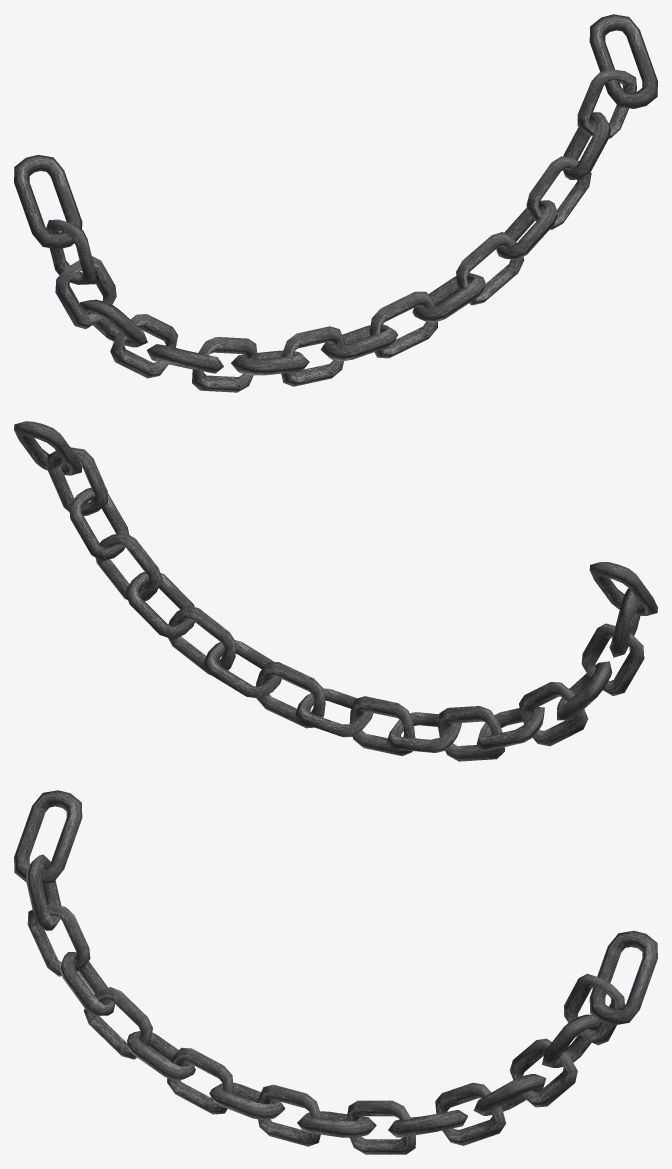
File: chain1.obj
3 views of the same model, one above another, from view 1: azimuth 30°, elevation 25°; view 2: azimuth 150°, elevation 25°; view 3: azimuth 330°, elevation 25° (orthographic).
Visible parts, largest first — view 1: chain; view 2: chain; view 3: chain.
Part boxes in pixels (bbox=[...]): chain: bbox=[14, 14, 657, 392]; chain: bbox=[14, 421, 657, 761]; chain: bbox=[14, 790, 657, 1154].
Bounding box in the file's own units: 20.84 × 8.53 × 2.55.
1 material, 1 textured.
